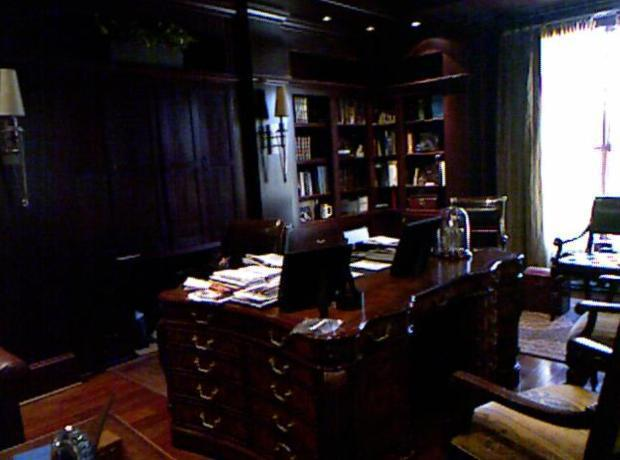Armario: (159, 72, 276, 336), (51, 72, 158, 349)
